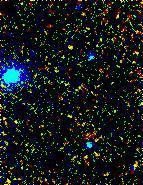star: (52, 30, 82, 60)
